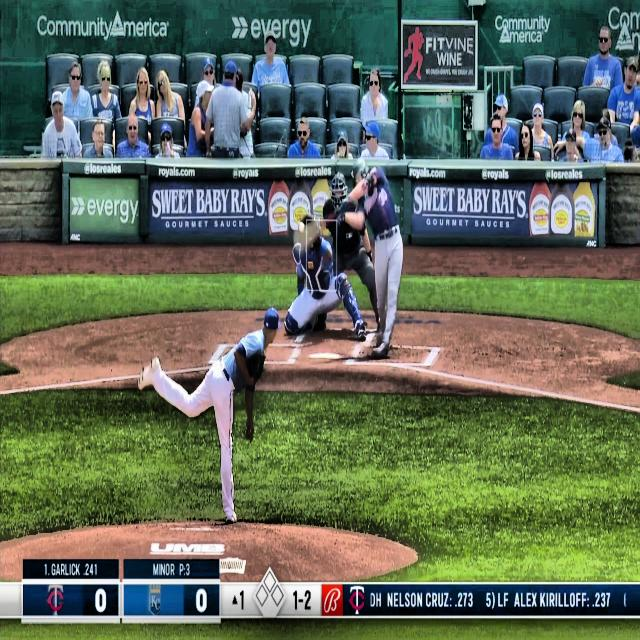baseball: (298, 220, 306, 234)
